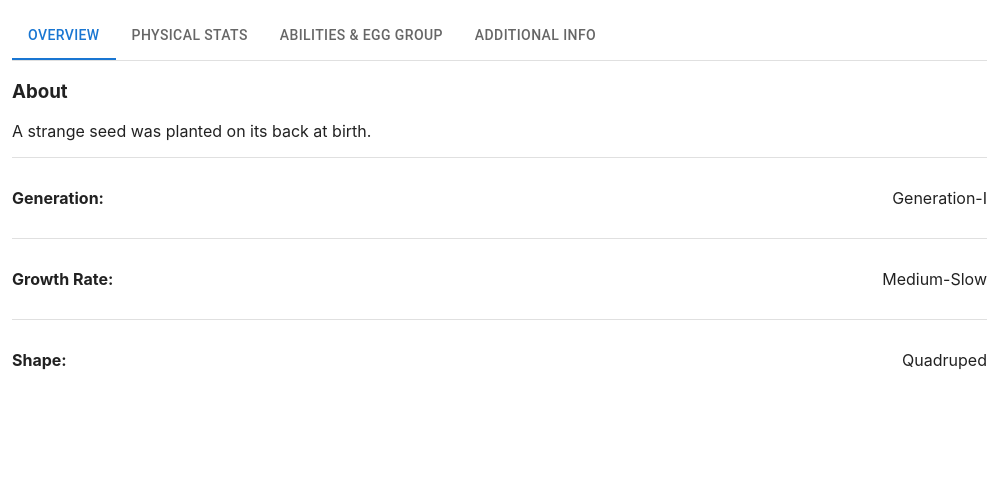
Test: Bio Component › switches to 'Physical Stats' tab and displays content
This screenshot has width=1004, height=501.
Click the tab "Physical Stats".
click(190, 36)  # box [116, 12, 264, 60]
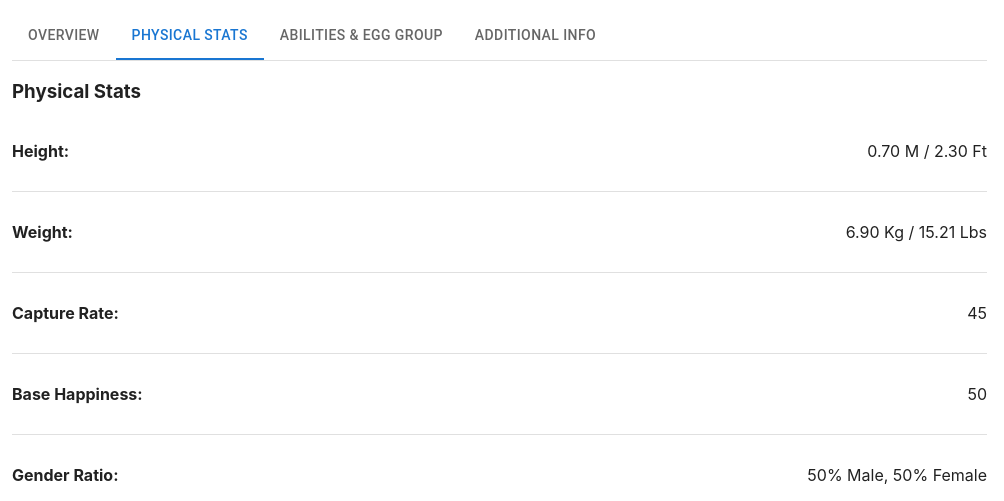
expect the text "Height:" is shown: met, box [12, 141, 69, 161]
expect the text "0.70 m / 2.30 ft" is shown: met, box [867, 141, 987, 161]
expect the text "Weight:" is shown: met, box [12, 222, 73, 242]
